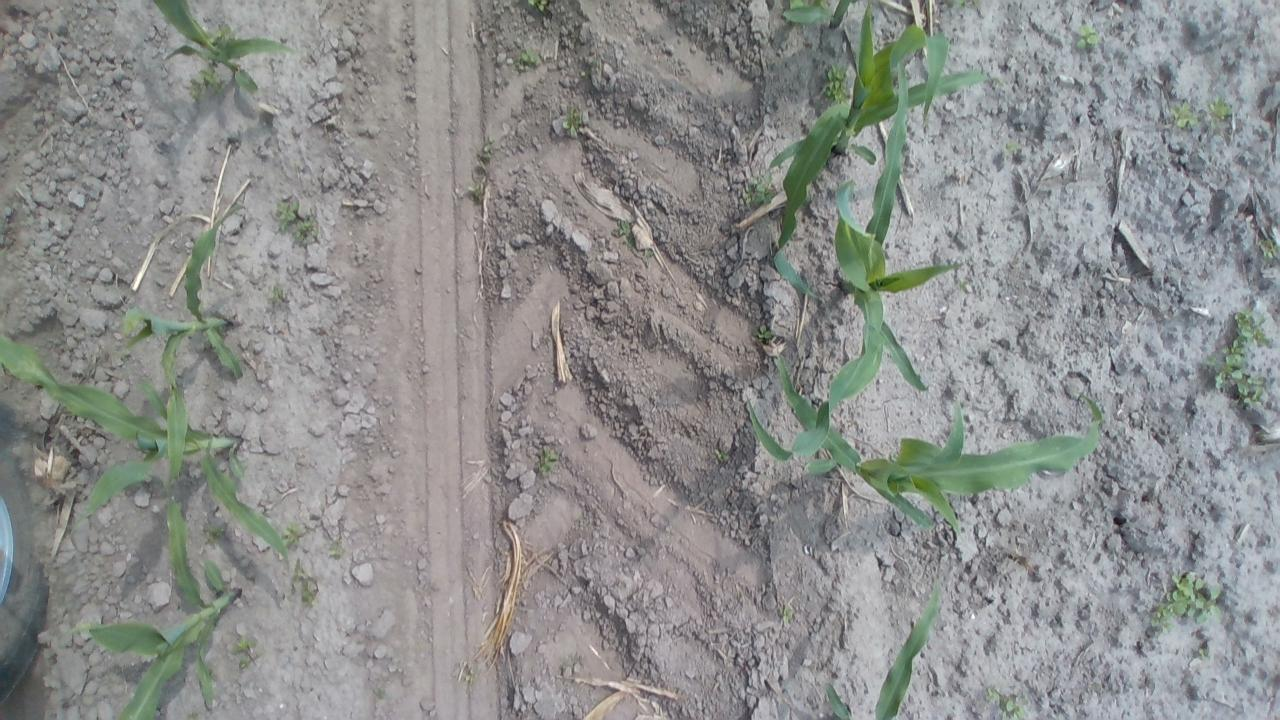Maize: (742, 52, 978, 467), (0, 314, 301, 570), (755, 337, 1115, 545), (763, 6, 994, 257), (51, 485, 254, 720), (111, 190, 258, 397), (796, 575, 966, 720), (134, 0, 318, 113), (778, 0, 916, 32)
Weeds: (1202, 302, 1276, 419), (1149, 570, 1230, 633), (272, 194, 321, 244), (612, 216, 658, 258), (286, 556, 322, 608), (186, 64, 232, 102), (740, 172, 780, 210), (820, 64, 854, 108), (987, 690, 1029, 720), (232, 634, 266, 670), (556, 105, 588, 141), (1204, 96, 1238, 126), (534, 443, 558, 482), (278, 520, 311, 548), (1070, 22, 1102, 50), (777, 601, 804, 631), (514, 47, 546, 72), (1172, 100, 1201, 127), (1253, 232, 1280, 260), (710, 446, 744, 468), (202, 522, 228, 548), (478, 136, 500, 166), (267, 283, 292, 308), (1199, 639, 1220, 668), (748, 324, 776, 345), (326, 540, 350, 559), (468, 176, 482, 204), (213, 24, 240, 38), (372, 684, 391, 702), (528, 0, 551, 14), (181, 711, 205, 720), (958, 279, 971, 294), (1003, 142, 1019, 154)
